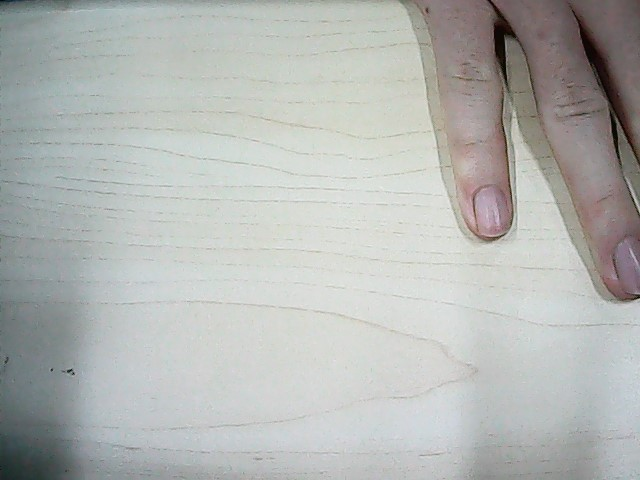nail: (471, 182, 512, 239), (612, 236, 640, 298)
